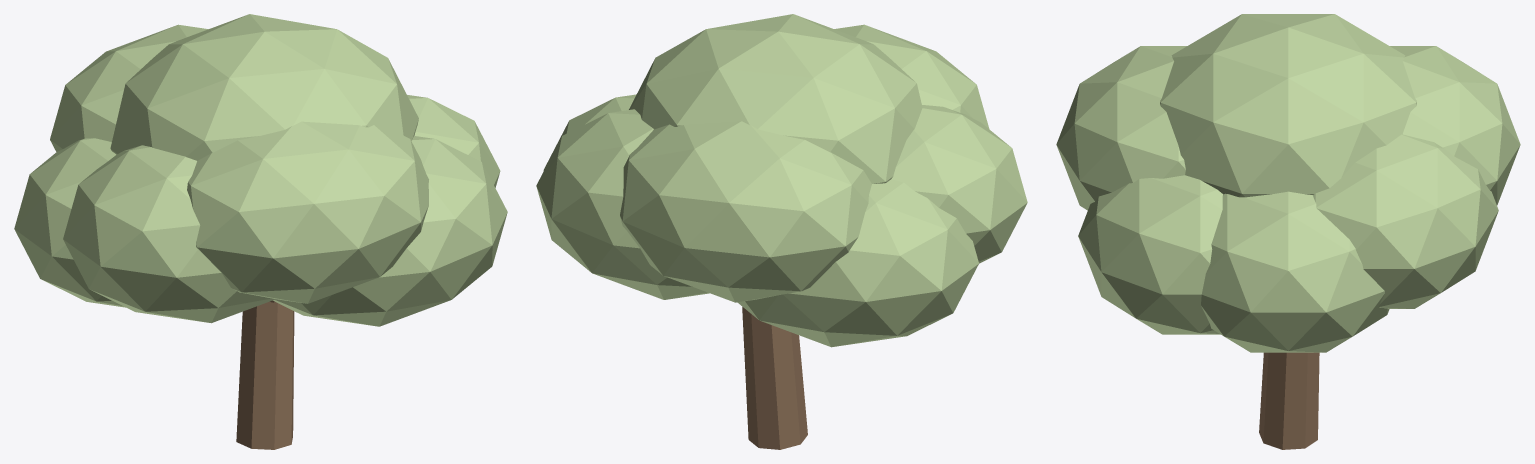
File: hd2d-tree.glb
3 renders of one model, left to right at view 1: azimuth 30°, elevation 25°; view 2: azimuth 150°, elevation 25°; view 3: azimuth 270°, elevation 25°, orthographic.
Parts seen in each view (by area): view 1: Batched_HD_Leaf, Batched_HD_Wood; view 2: Batched_HD_Leaf, Batched_HD_Wood; view 3: Batched_HD_Leaf, Batched_HD_Wood.
Part boxes in pixels (bbox=[...]): Batched_HD_Leaf: bbox=[14, 14, 507, 326]; Batched_HD_Wood: bbox=[236, 300, 294, 449]; Batched_HD_Leaf: bbox=[536, 14, 1027, 347]; Batched_HD_Wood: bbox=[742, 307, 807, 449]; Batched_HD_Leaf: bbox=[1056, 14, 1520, 352]; Batched_HD_Wood: bbox=[1259, 352, 1319, 449].
Size of the model in its own units: 5.23 by 4.82 by 4.94.
